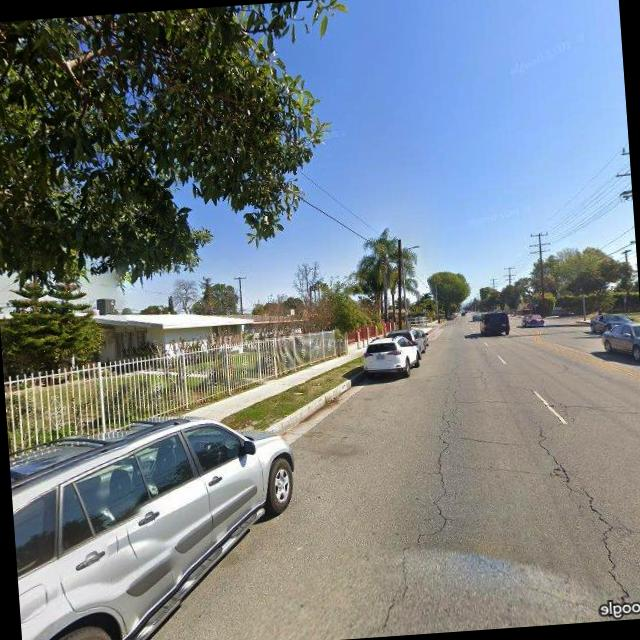crack: (376, 368, 478, 634), (522, 392, 636, 612)
